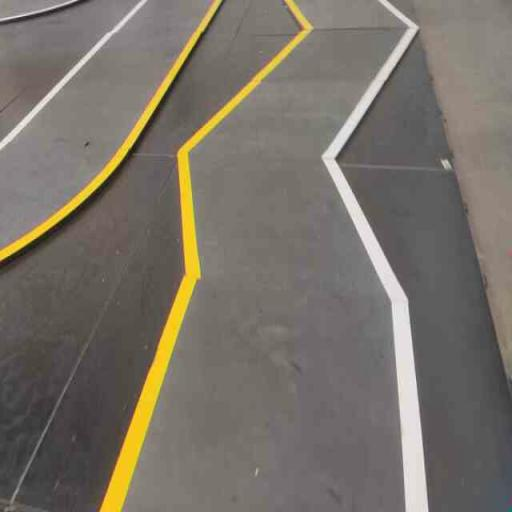crossleft: (161, 156, 419, 301)
